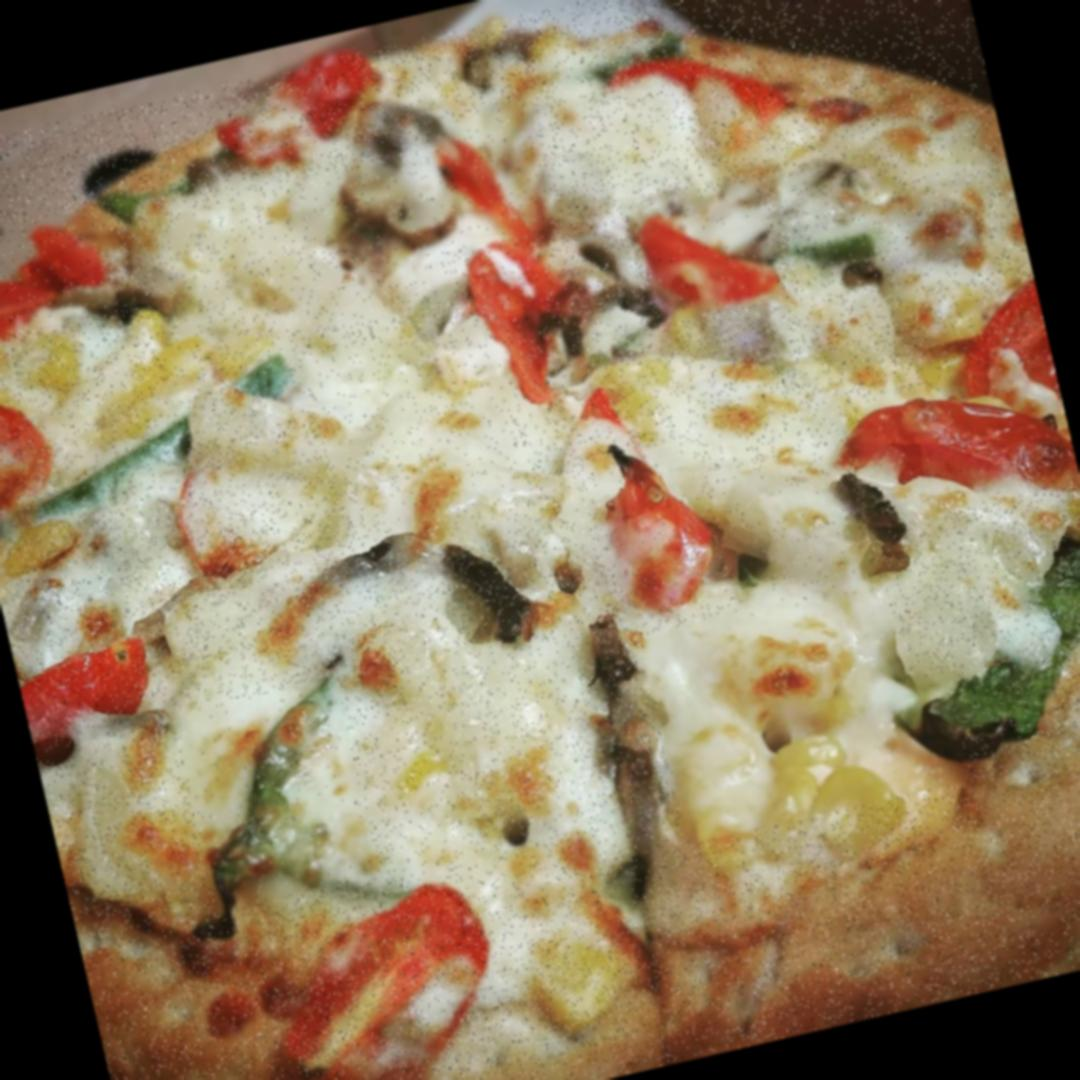Basil: (869, 521, 1080, 786), (173, 680, 380, 910)
Cheese: (641, 570, 968, 844), (352, 602, 640, 895), (70, 479, 393, 708), (139, 157, 457, 366), (306, 315, 536, 570), (780, 111, 998, 314), (651, 316, 864, 464), (706, 442, 876, 620), (876, 517, 1040, 685), (532, 80, 684, 206)
Mushroom: (329, 148, 466, 267), (456, 21, 554, 91), (353, 90, 441, 156)
Peppers: (0, 358, 314, 542)
Pizza: (0, 0, 1080, 1080)
Tomatoes: (252, 872, 510, 1080), (840, 358, 1080, 530), (608, 14, 798, 157), (206, 48, 399, 174), (592, 439, 726, 616), (462, 228, 590, 411), (412, 100, 559, 253), (634, 179, 782, 324), (13, 628, 167, 766), (0, 208, 114, 341), (0, 389, 84, 534), (944, 280, 1052, 377)
